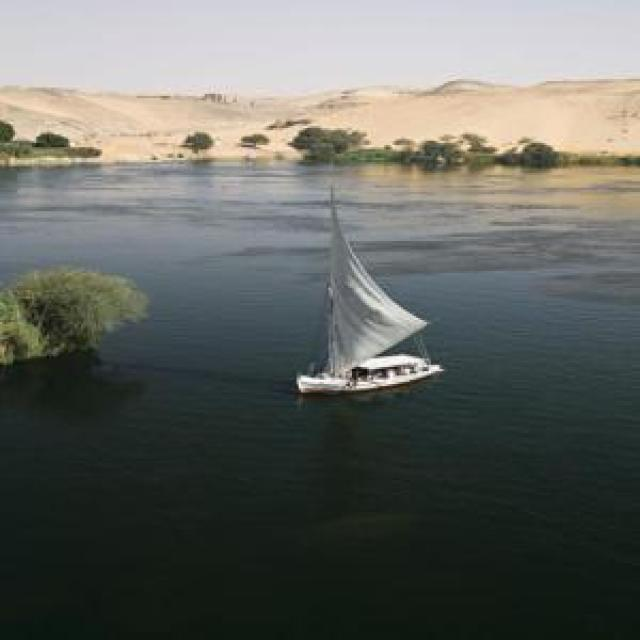sailboat: (293, 176, 439, 394)
